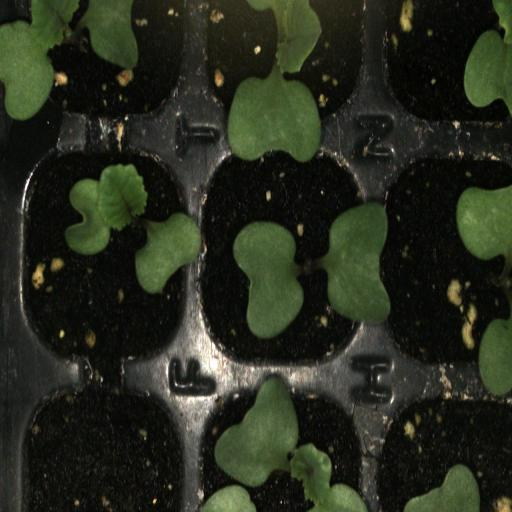Folha: (198, 375, 369, 512), (321, 202, 391, 325), (233, 221, 304, 339), (65, 163, 148, 255), (135, 212, 204, 294), (456, 185, 512, 267), (404, 464, 480, 512), (478, 318, 512, 398)
Germinacao: (14, 142, 197, 381), (196, 141, 372, 376), (16, 0, 198, 144), (193, 0, 372, 142)
